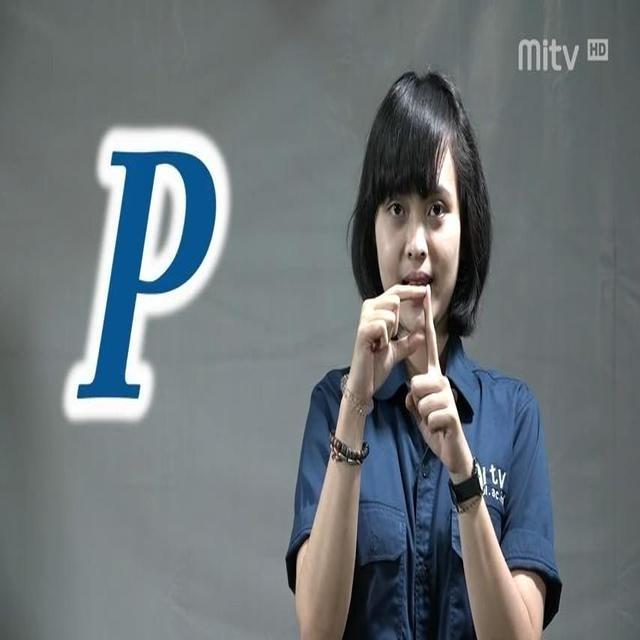P: (340, 263, 476, 437)
